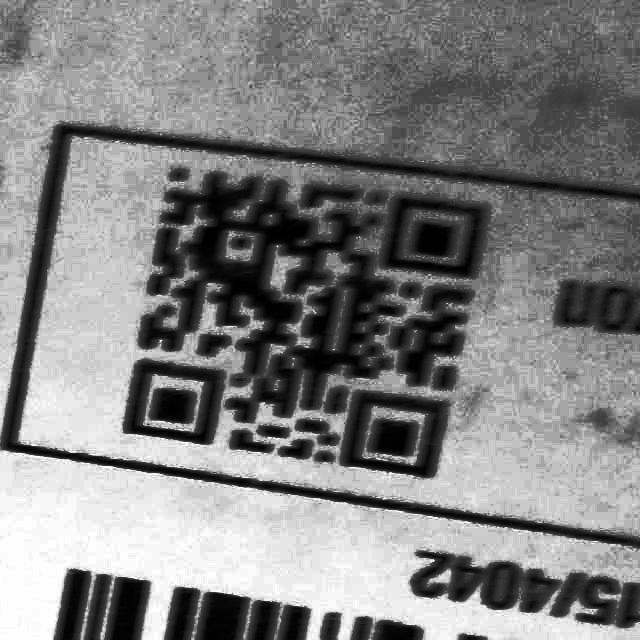qr_code: (117, 147, 495, 484)
